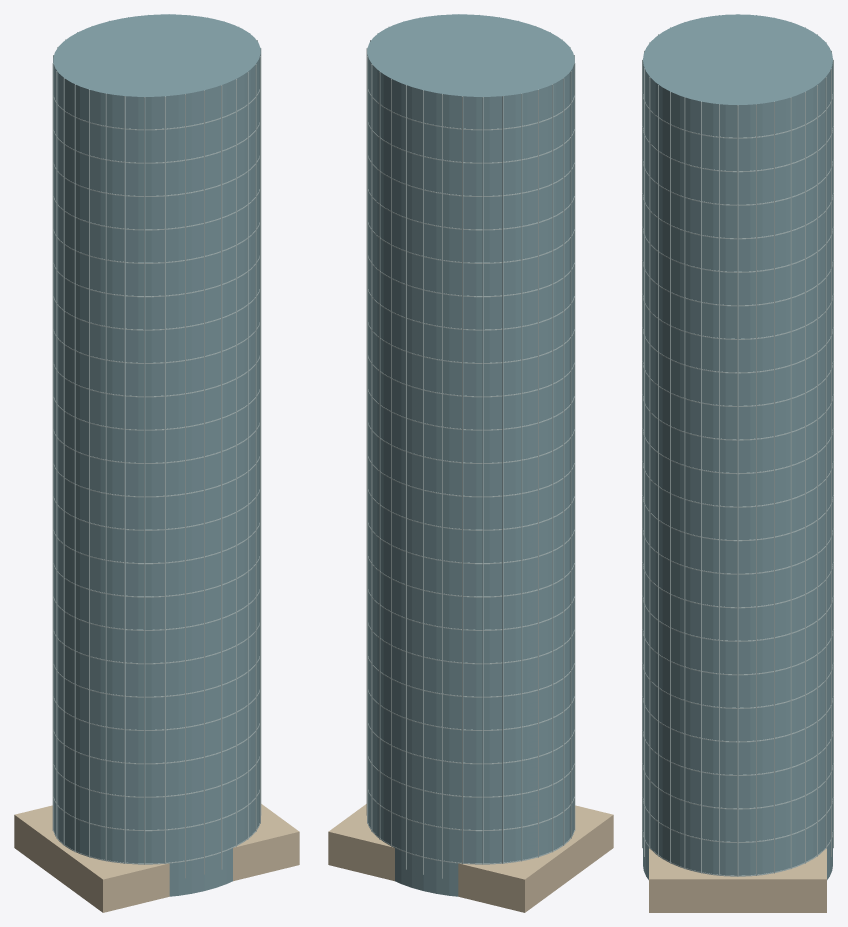
File: china-merchants-tower.glb
3 renders of one model, left to right at view 1: azimuth 30°, elevation 25°; view 2: azimuth 150°, elevation 25°; view 3: azimuth 270°, elevation 25°, orthographic.
Visible parts, largest first — view 1: china-merchants-tower; view 2: china-merchants-tower; view 3: china-merchants-tower.
Part boxes in pixels (x1,y1,x2,y2): china-merchants-tower: [14, 14, 299, 912]; china-merchants-tower: [328, 14, 613, 912]; china-merchants-tower: [642, 14, 833, 912].
Bounding box in the file's own units: 43.13 × 168 × 36.29.
